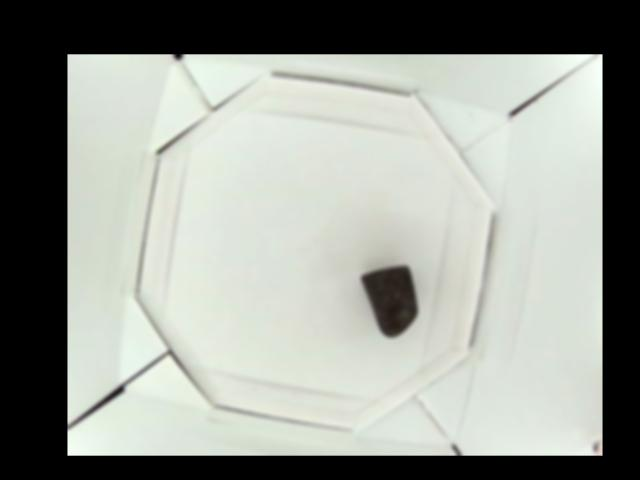Pebble: (363, 264, 417, 336)
